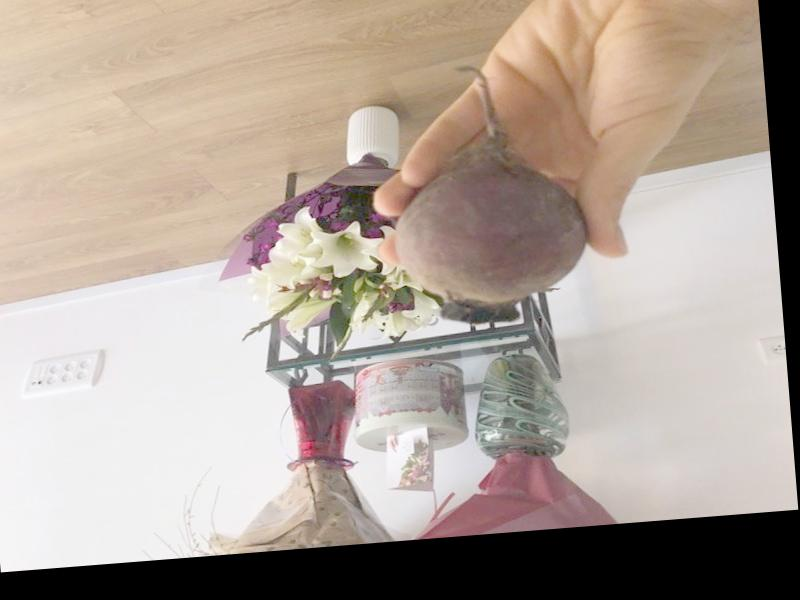Beet: (381, 58, 593, 330)
